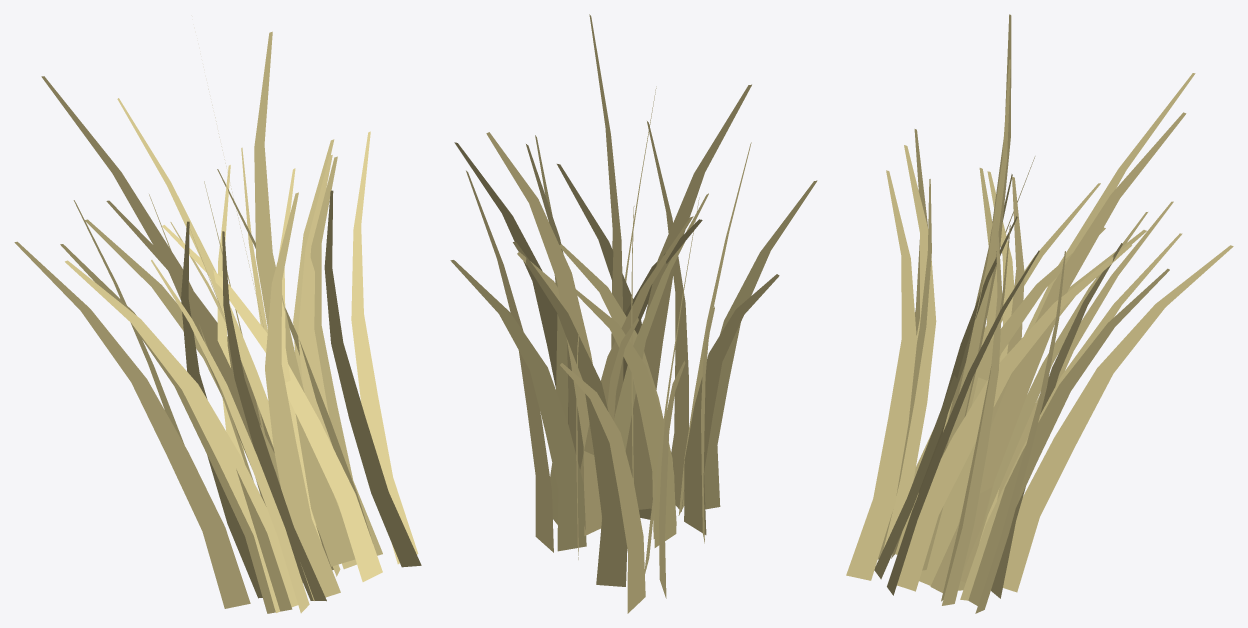
File: grass.glb
The picture shows the model from 3 angles, left to right: view 1: azimuth 30°, elevation 25°; view 2: azimuth 150°, elevation 25°; view 3: azimuth 270°, elevation 25°; orthographic projection. The views are drawn at different scales.
Visible parts, largest first — view 1: mesh_id27, mesh_id22, mesh_id7, mesh_id8, mesh_id18, mesh_id19, mesh_id17, mesh_id6, mesh_id21, mesh_id10, mesh_id29, mesh_id23 (+11 smaller); view 2: mesh_id30, mesh_id26, mesh_id4, mesh_id5, mesh_id8, mesh_id28, mesh_id9, mesh_id13, mesh_id23, mesh_id22, mesh_id17, mesh_id7 (+12 smaller); view 3: mesh_id19, mesh_id28, mesh_id16, mesh_id5, mesh_id30, mesh_id10, mesh_id15, mesh_id20, mesh_id17, mesh_id7, mesh_id14, mesh_id18 (+14 smaller).
Part boxes in pixels (left/top/right/bottom): mesh_id27: left=14, top=241, right=250, bottom=608; mesh_id22: left=265, top=192, right=340, bottom=600; mesh_id7: left=254, top=31, right=355, bottom=566; mesh_id8: left=65, top=260, right=297, bottom=612; mesh_id18: left=162, top=225, right=382, bottom=581; mesh_id19: left=324, top=190, right=421, bottom=567; mesh_id17: left=351, top=131, right=418, bottom=564; mesh_id6: left=41, top=76, right=280, bottom=506; mesh_id21: left=60, top=244, right=292, bottom=613; mesh_id10: left=222, top=231, right=326, bottom=601; mesh_id29: left=298, top=155, right=356, bottom=569; mesh_id23: left=151, top=260, right=309, bottom=613; mesh_id30: left=450, top=260, right=586, bottom=551; mesh_id26: left=513, top=242, right=627, bottom=586; mesh_id4: left=625, top=84, right=751, bottom=509; mesh_id5: left=486, top=132, right=601, bottom=535; mesh_id8: left=684, top=274, right=779, bottom=534; mesh_id28: left=560, top=363, right=645, bottom=613; mesh_id9: left=573, top=289, right=676, bottom=547; mesh_id13: left=466, top=170, right=553, bottom=552; mesh_id23: left=704, top=180, right=817, bottom=509; mesh_id22: left=647, top=121, right=688, bottom=511; mesh_id17: left=454, top=142, right=568, bottom=423; mesh_id7: left=589, top=14, right=623, bottom=417; mesh_id19: left=846, top=170, right=916, bottom=580; mesh_id28: left=1003, top=245, right=1233, bottom=592; mesh_id16: left=897, top=244, right=1131, bottom=591; mesh_id5: left=958, top=112, right=1186, bottom=582; mesh_id30: left=968, top=268, right=1169, bottom=605; mesh_id10: left=883, top=145, right=936, bottom=548; mesh_id15: left=942, top=220, right=1002, bottom=605; mesh_id20: left=919, top=168, right=1000, bottom=585; mesh_id17: left=887, top=250, right=1039, bottom=595; mesh_id7: left=922, top=59, right=1010, bottom=570; mesh_id14: left=930, top=176, right=1024, bottom=592; mesh_id18: left=874, top=174, right=1012, bottom=579.
Bounding box in the file's own units: 0.3196 × 0.5537 × 0.3524.
Materials: 28 (28 with a texture image).
